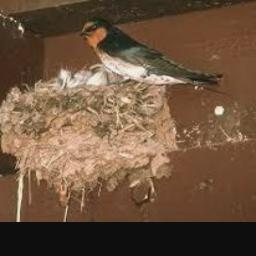Swallow: (80, 18, 222, 87)
